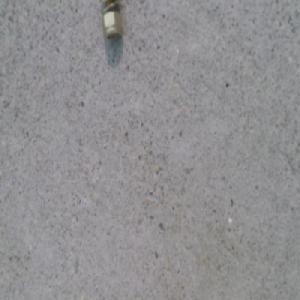BoltNutSet: (101, 0, 121, 40)
